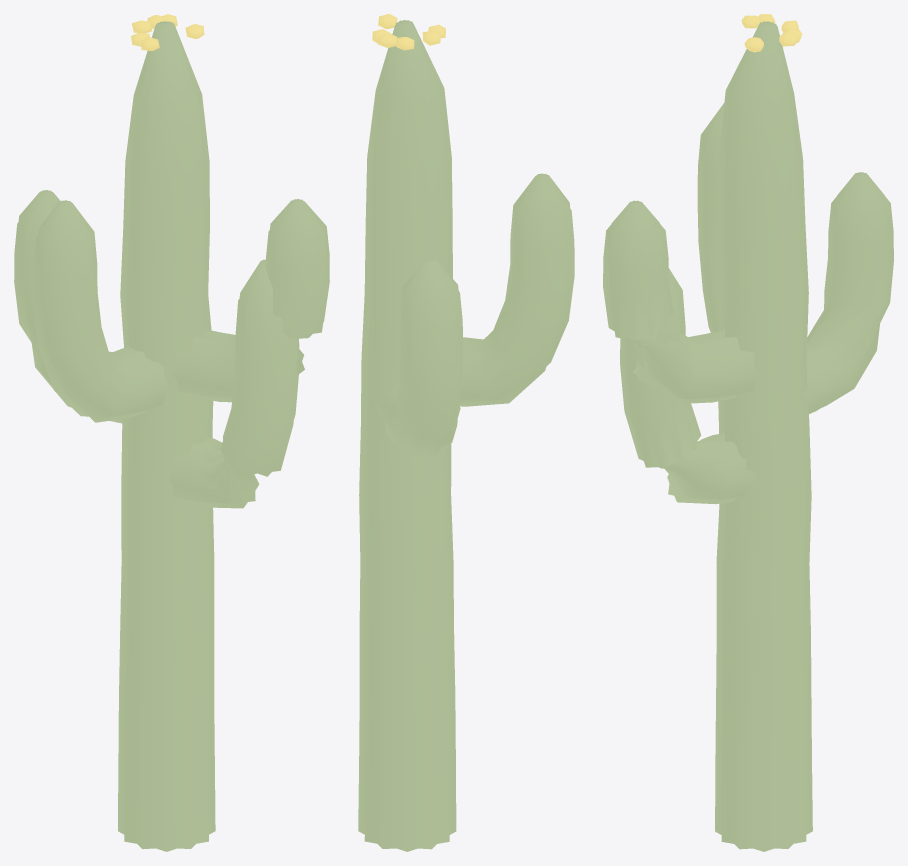
The model's file is Blender_Saguaro_2.glb.
3 views of the same model, side by side, from view 1: azimuth 30°, elevation 25°; view 2: azimuth 150°, elevation 25°; view 3: azimuth 270°, elevation 25° (orthographic).
Parts seen in each view (by area): view 1: Blender_Saguaro_2; view 2: Blender_Saguaro_2; view 3: Blender_Saguaro_2.
Boxes of the visible parts, x1=… form: Blender_Saguaro_2: x1=14, y1=14, x2=329, y2=851; Blender_Saguaro_2: x1=358, y1=14, x2=574, y2=851; Blender_Saguaro_2: x1=603, y1=14, x2=893, y2=851.
Bounding box in the file's own units: 3.73 × 12.02 × 3.92.
